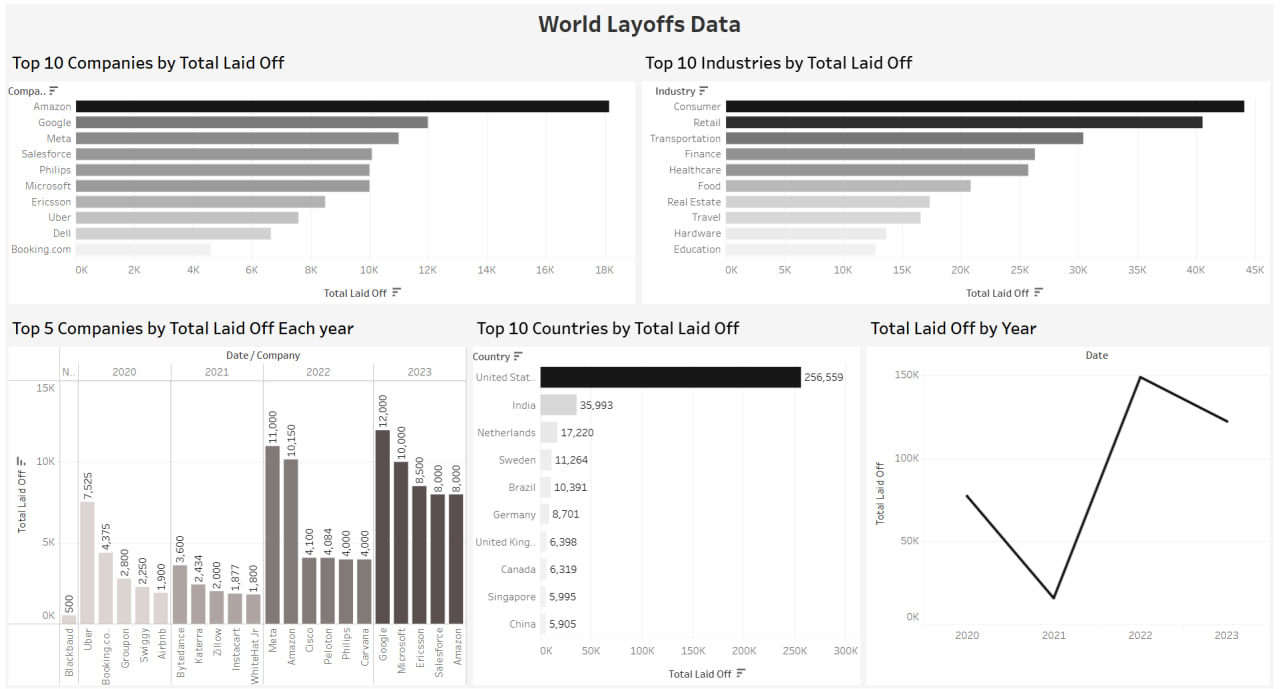

Layout of this report page (visuals, bound fields, positions):
{"tool":"tableau","page":{"name":"Dashboard 1","canvas":[1000,1000],"units":"permille","ordinal":0},"visuals":[{"type":"title","box":[4.8,9.3,990.4,61.6]},{"type":"worksheet","title":"Sheet 3","mark":"Automatic","rows":["company"],"cols":["total_laid_off"],"box":[4.8,70.8,494.4,377.2]},{"type":"worksheet","title":"Sheet 4","mark":"Automatic","rows":["industry"],"cols":["total_laid_off"],"box":[499.2,70.8,495.9,377.2]},{"type":"worksheet","title":"Sheet 7","mark":"Automatic","rows":["total_laid_off"],"cols":["date","company"],"box":[4.8,448.1,362.8,542.6]},{"type":"worksheet","title":"Sheet 5","mark":"Automatic","rows":["country"],"cols":["total_laid_off"],"box":[367.6,448.1,307.6,542.6]},{"type":"worksheet","title":"Sheet 6","mark":"Automatic","rows":["total_laid_off"],"cols":["date"],"box":[675.2,448.1,320,542.6]}]}

Visuals, with their boxes on the dashboard's canvas, which has no fixed pixel size, in thousandths of its width and height (x1, y1, x2, y2). These are canvas units, not pixel positions in the 1280x689 screenshot, which may show the page scaled, cropped or inside an application window:
title: [left=5, top=9, right=995, bottom=71]
"Sheet 3" worksheet: [left=5, top=71, right=499, bottom=448]
"Sheet 4" worksheet: [left=499, top=71, right=995, bottom=448]
"Sheet 7" worksheet: [left=5, top=448, right=368, bottom=991]
"Sheet 5" worksheet: [left=368, top=448, right=675, bottom=991]
"Sheet 6" worksheet: [left=675, top=448, right=995, bottom=991]
